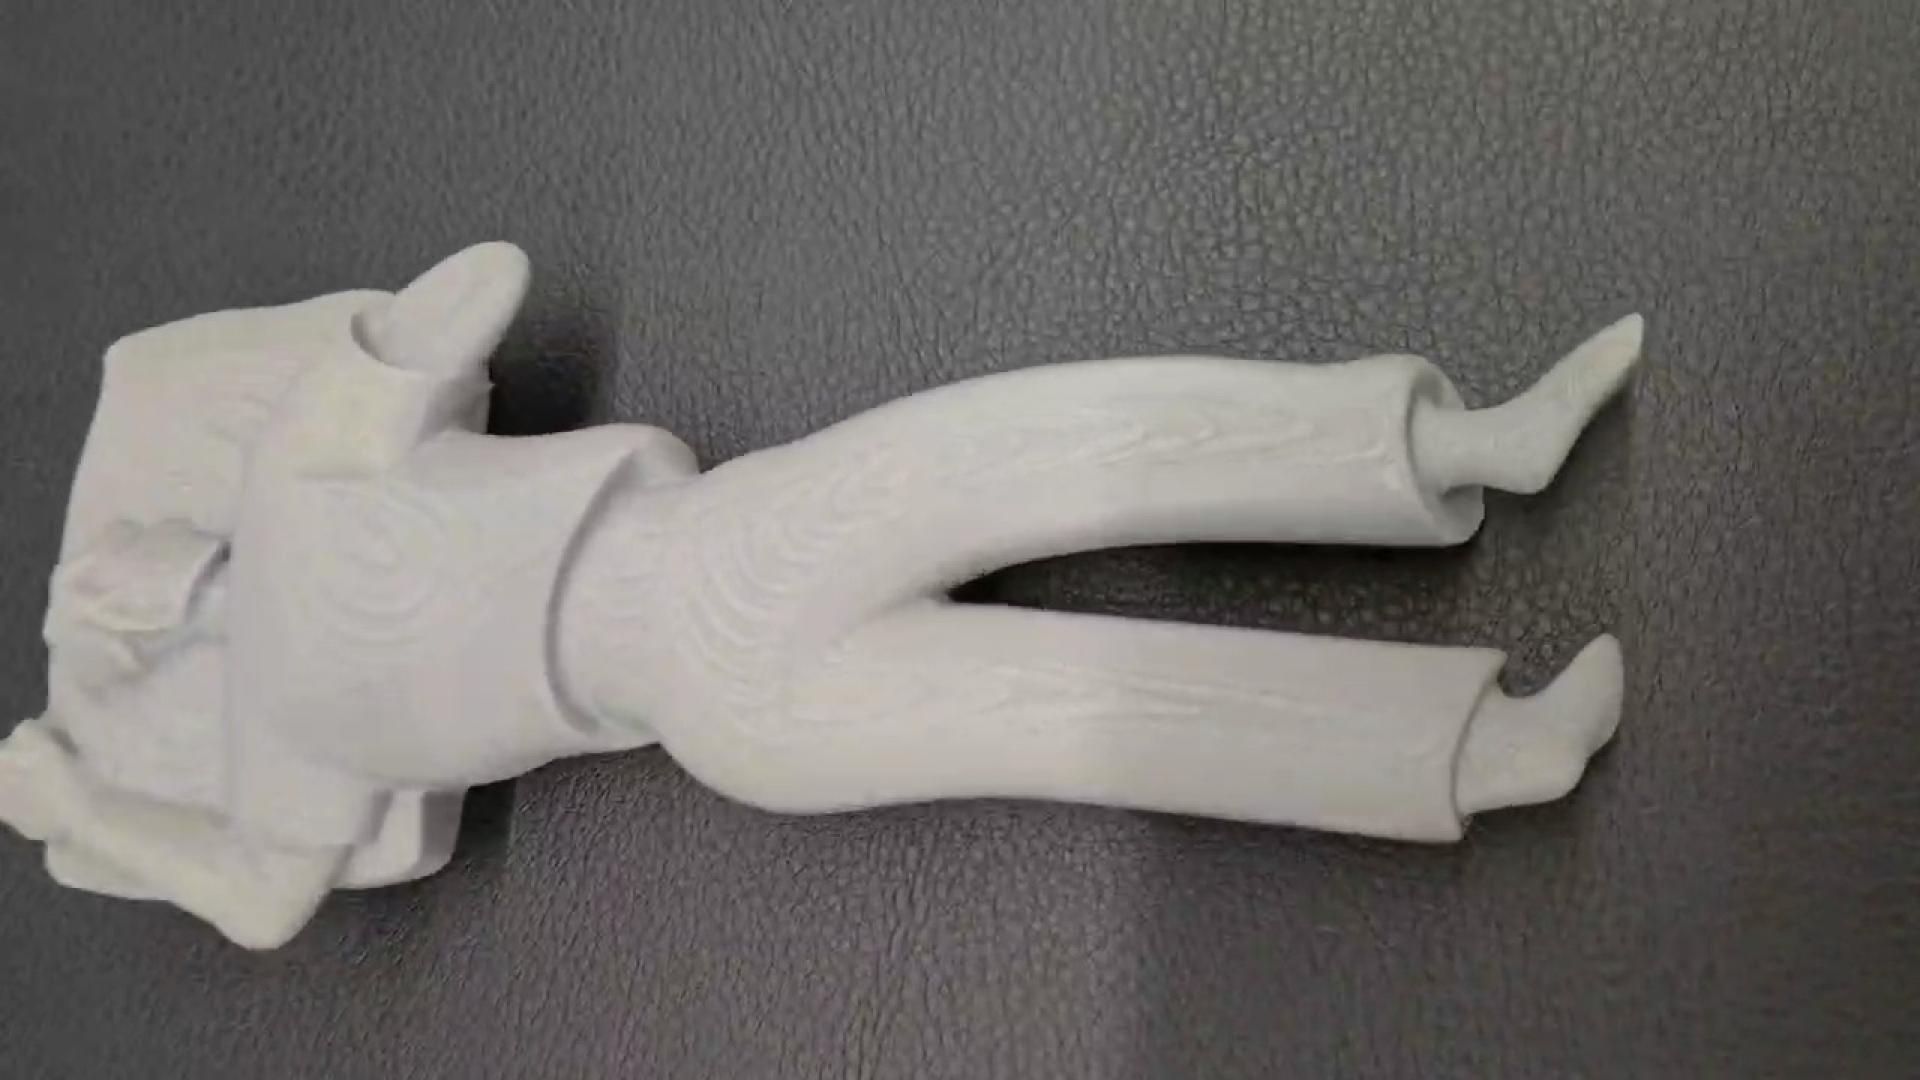Bad-style: (0, 231, 1656, 956)
